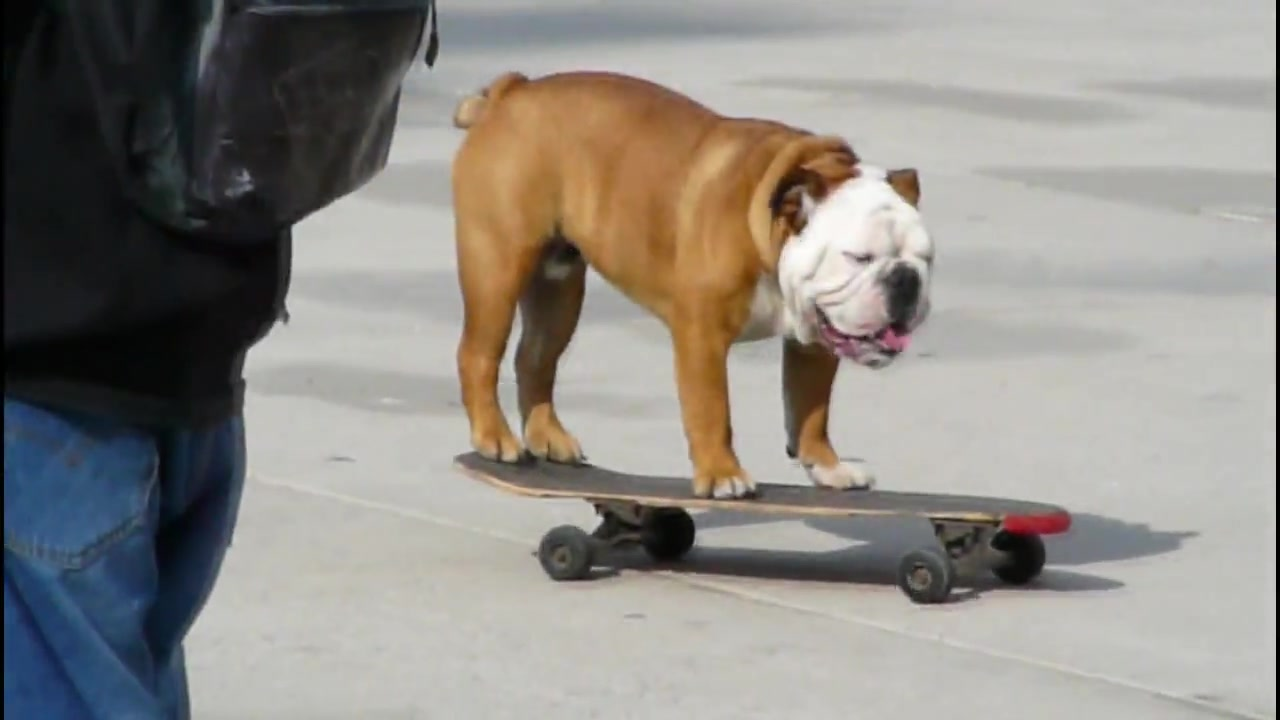dog: (444, 63, 942, 499)
